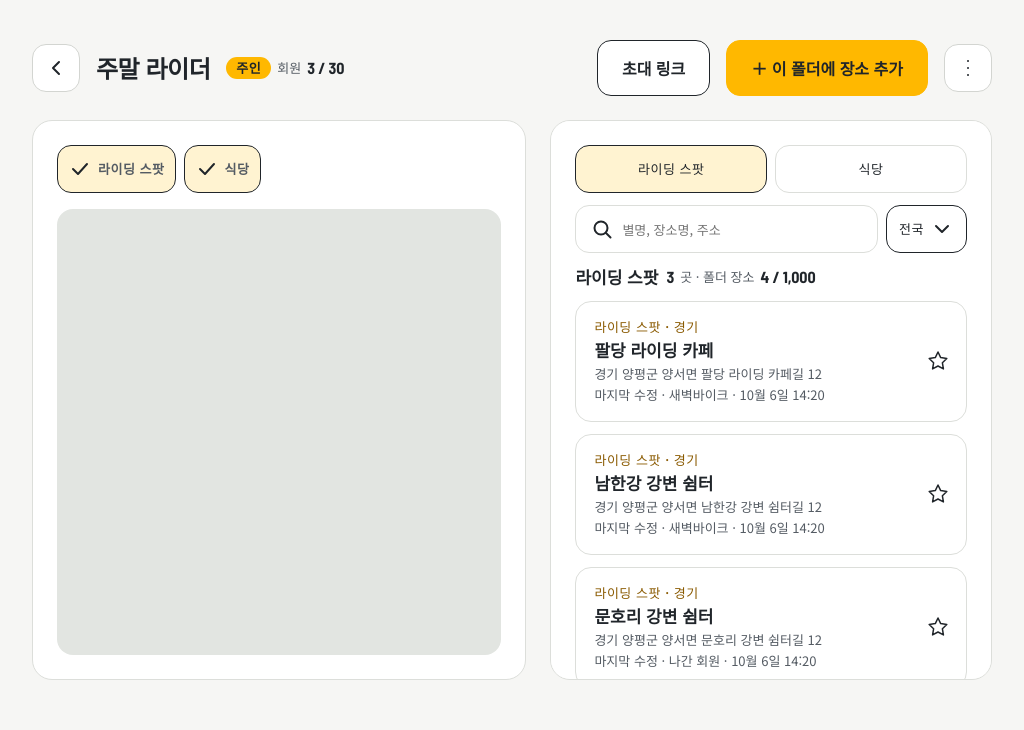
it: adding a place to a shared folder (G13b) › V3-6: an unknown star is shown as unknown and resolved by a re-read, never by sending it again
The width and height of the screenshot is (1024, 730).
What coordinates should you click on to do the following:
click the button "＋ 이 폴더에 장소 추가"
I would click on:
 (827, 68)
Its box is [726,40,928,96].
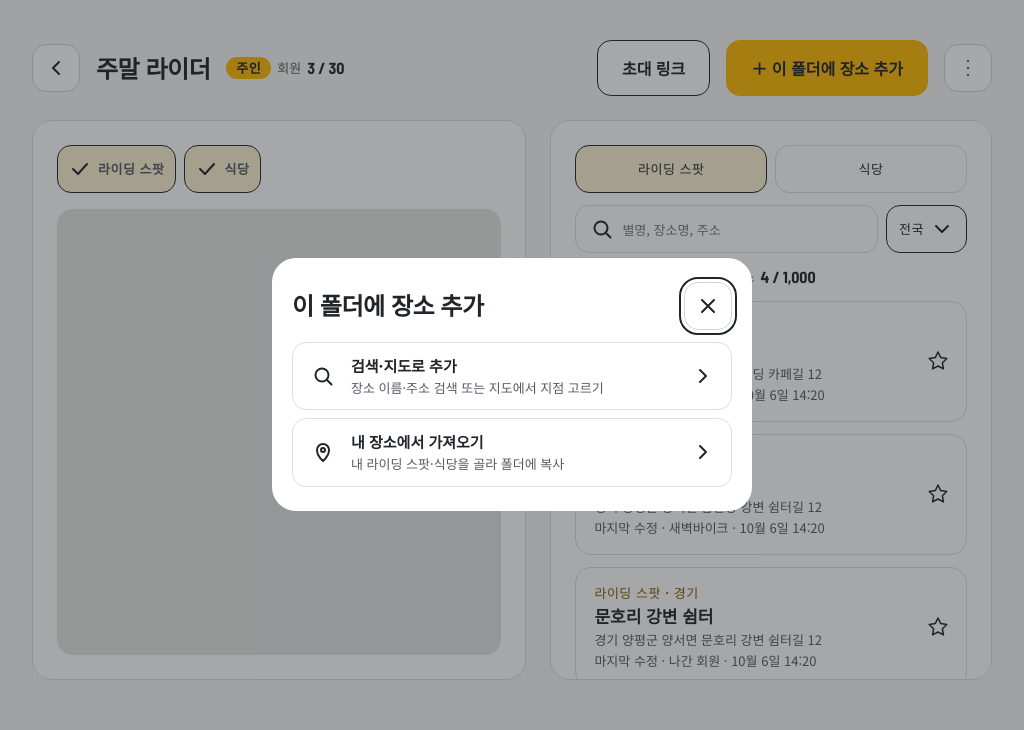
What coordinates should you click on to do the following:
click the button "검색·지도로 추가 장소 이름·주소 검색 또는 지도에서 지점 고르기"
I would click on:
 (512, 376)
Its box is [292,342,732,410].
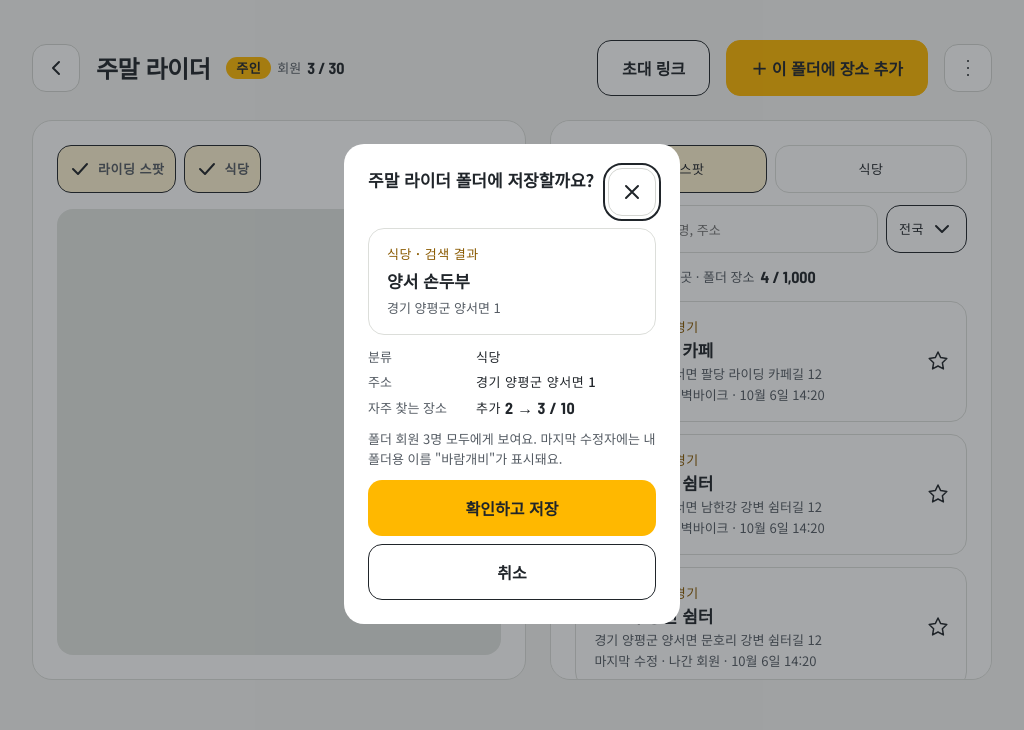
What coordinates should you click on to do the following:
click the button "확인하고 저장"
I would click on:
 (512, 508)
Its box is [368,480,656,536].
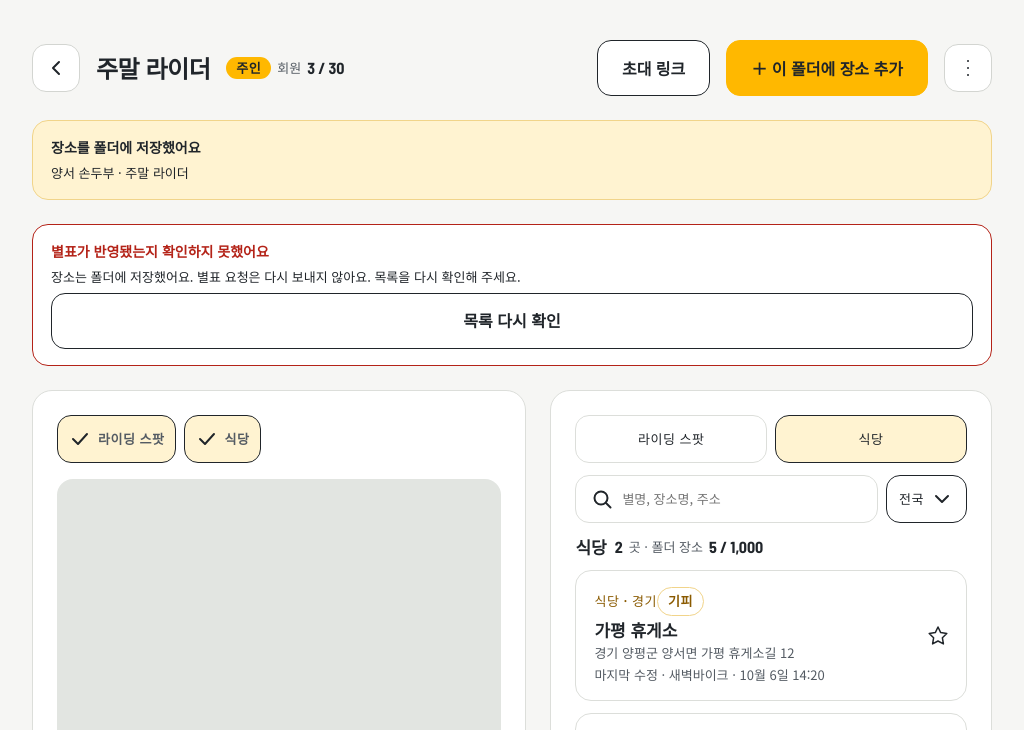
Now the text "별표가 반영됐는지 확인하지 못했어요" is shown, box [51,241,269,261]
What coordinates should you click on to do the following:
click the button "목록 다시 확인"
I would click on:
 (512, 321)
Its box is [51,293,973,349].
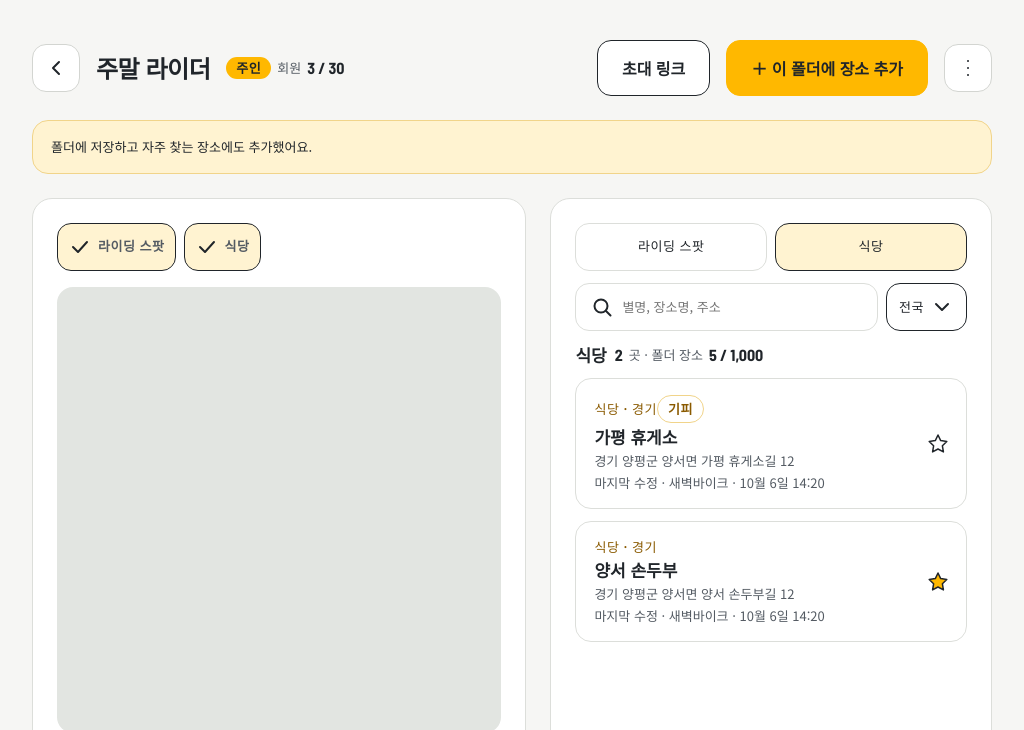
Now the text "별표가 반영됐는지 확인하지 못했어요" is gone
